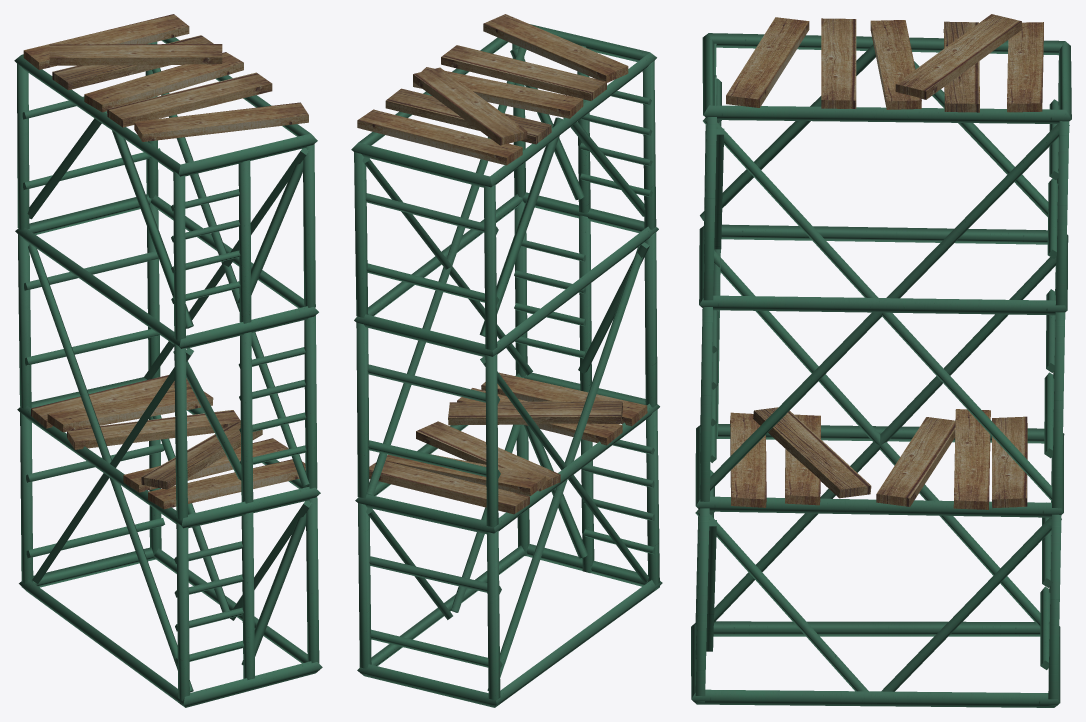
Rendered from Shelves_big01.glb.
3 renders of one model, left to right at view 1: azimuth 30°, elevation 25°; view 2: azimuth 150°, elevation 25°; view 3: azimuth 270°, elevation 25°, orthographic. The views are drawn at different scales.
Parts seen in each view (by area): view 1: Shelves_big01; view 2: Shelves_big01; view 3: Shelves_big01.
Part boxes in pixels (left/top/right/bottom): Shelves_big01: left=14, top=14, right=322, bottom=707; Shelves_big01: left=351, top=14, right=662, bottom=707; Shelves_big01: left=691, top=14, right=1071, bottom=707.
Size of the model in its own units: 1.4 by 4.92 by 2.73.
1 material, 1 textured.
